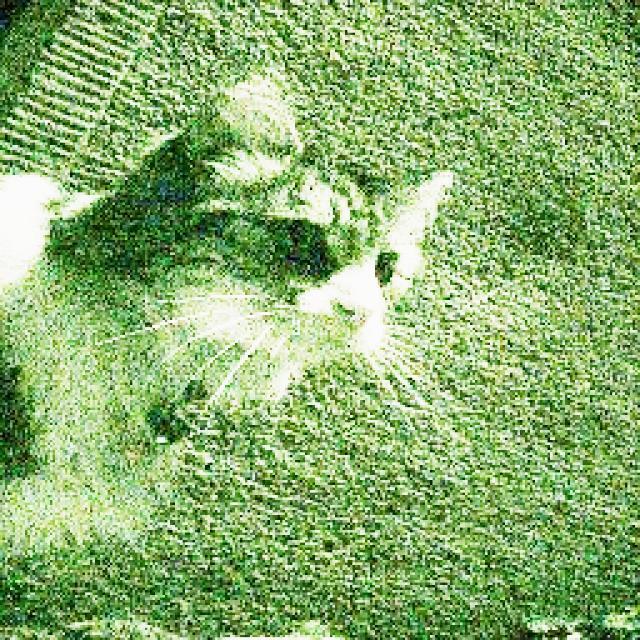cat: (0, 72, 455, 552)
